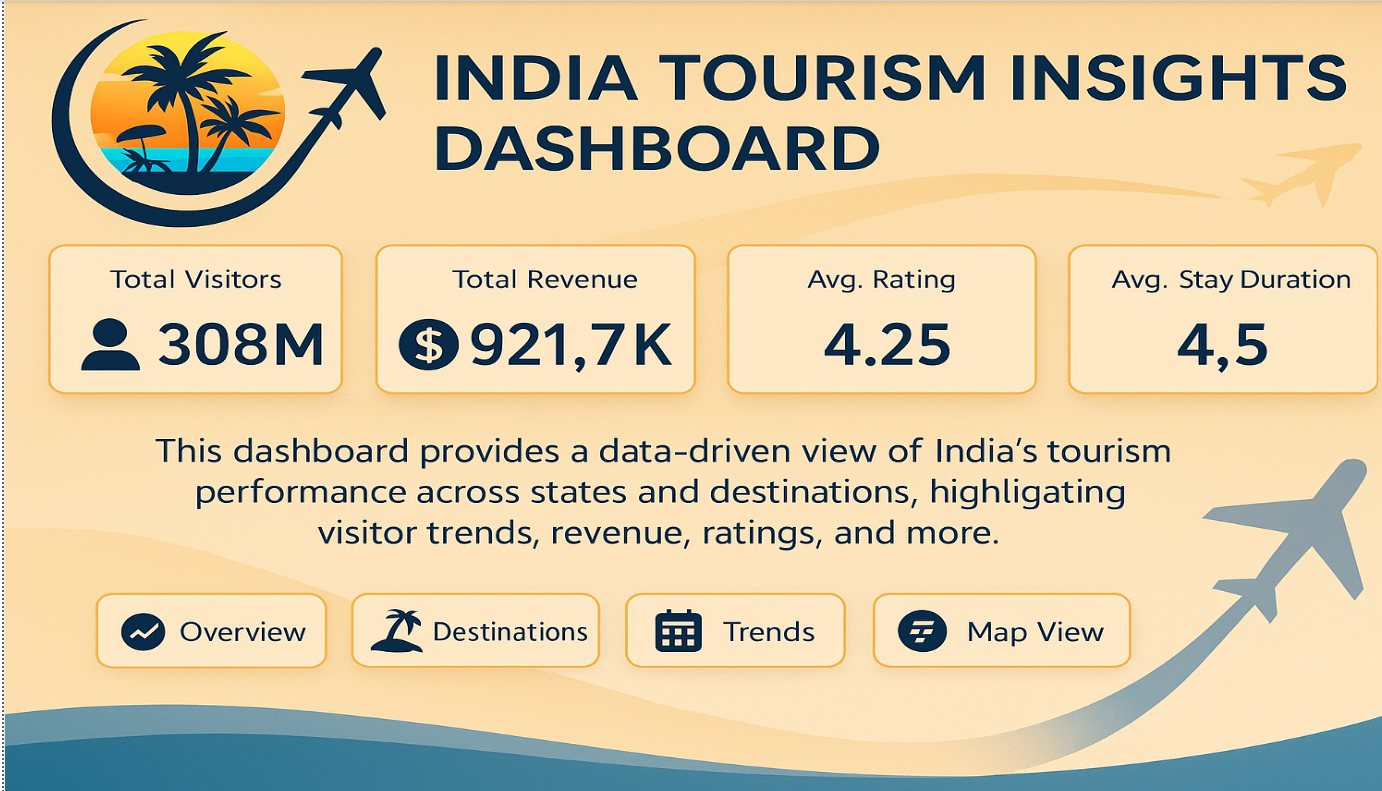

What the dashboard file says about the page in this screenshot:
{"tool":"powerbi","page":{"name":"Page 1","canvas":[1280,720],"ordinal":0},"visuals":[{"type":"image","box":[0,0,1280.4,720.5],"z":0}]}

Visuals, with their boxes in screenshot pixels (x1, y1, x2, y2), scaled from the page's 1280x720 canvas onto the 1382x791 screenshot:
image: <box>0,0,1381,790</box>
